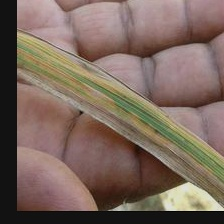Leaf_Blast: (20, 25, 221, 181)
